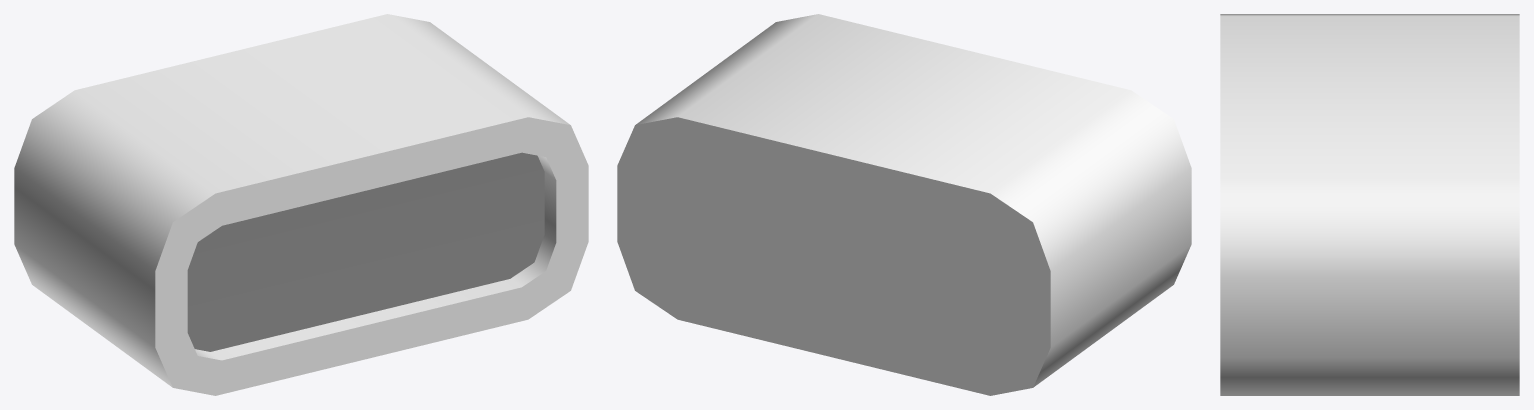
Rendered from Capsule_Head_Prop_Arrow_03.fbx.
3 views of the same model, side by side, from view 1: azimuth 30°, elevation 25°; view 2: azimuth 150°, elevation 25°; view 3: azimuth 270°, elevation 25° (orthographic). The views are drawn at different scales.
Visible parts, largest first — view 1: Capsule_Head_Prop_Arrow_03; view 2: Capsule_Head_Prop_Arrow_03; view 3: Capsule_Head_Prop_Arrow_03.
Part boxes in pixels (x1,y1,x2,y2): Capsule_Head_Prop_Arrow_03: (14,14,588,395); Capsule_Head_Prop_Arrow_03: (617,14,1191,395); Capsule_Head_Prop_Arrow_03: (1220,14,1519,395).
Bounding box in the file's own units: 81.25 × 36.28 × 45.77.
